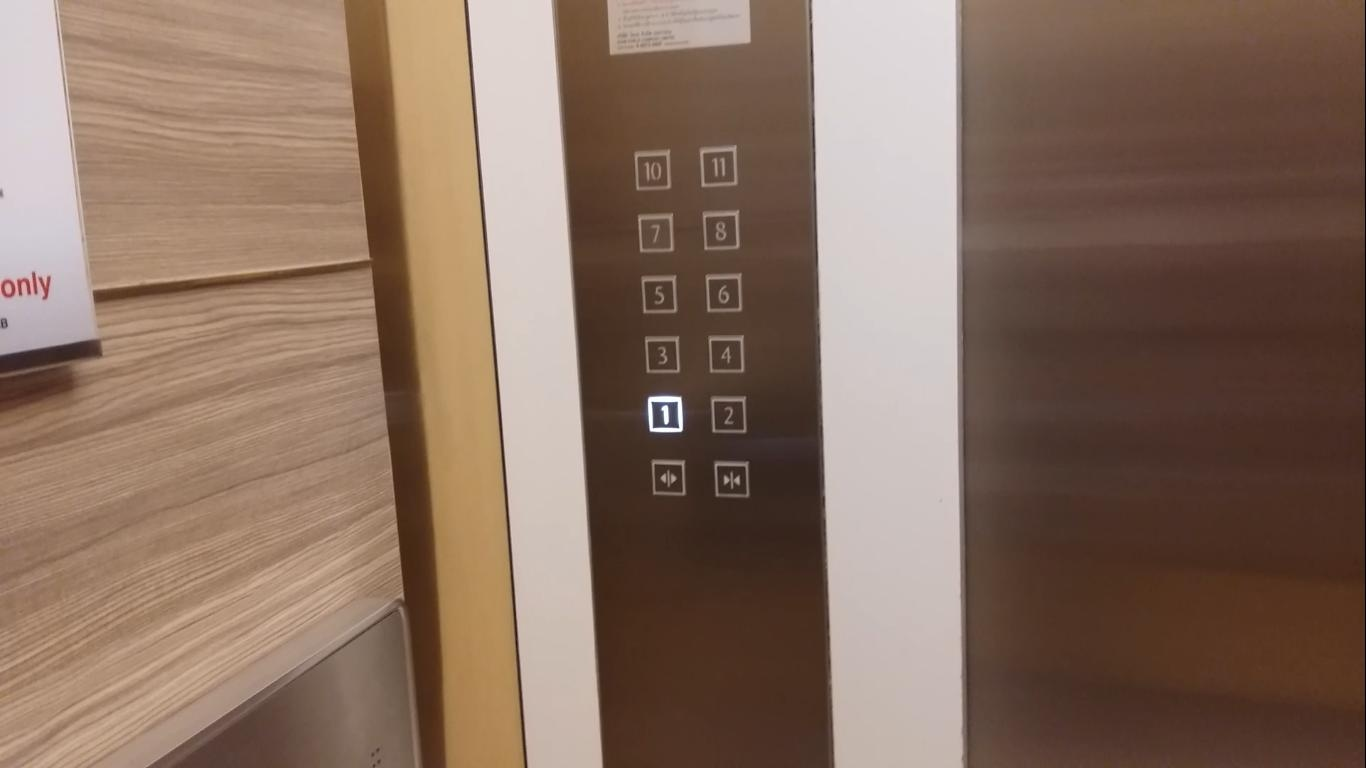1: (645, 393, 687, 436)
10: (634, 150, 671, 191)
11: (699, 146, 740, 189)
2: (710, 395, 749, 436)
3: (644, 335, 681, 375)
4: (708, 336, 746, 375)
5: (642, 275, 679, 315)
6: (705, 273, 744, 314)
7: (637, 213, 675, 254)
8: (701, 211, 741, 253)
close: (713, 460, 751, 500)
open: (651, 459, 687, 497)
